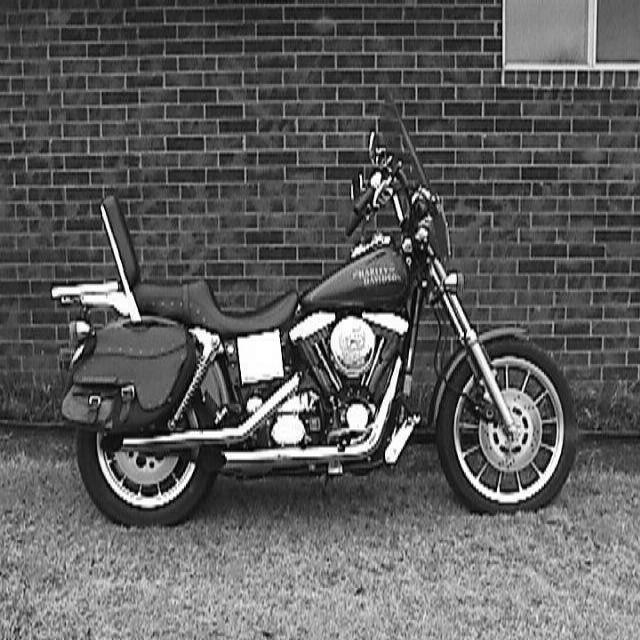Motorcycle: (51, 132, 577, 526)
